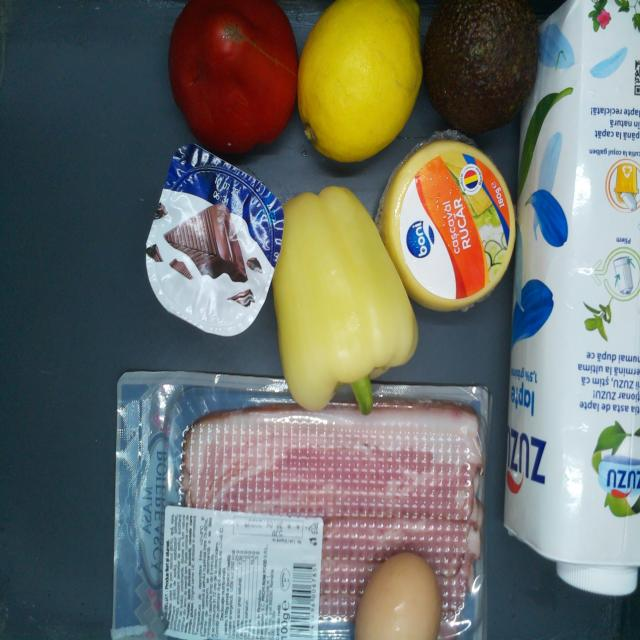avocado: (429, 1, 536, 119)
bacon: (123, 381, 474, 640)
cheese: (379, 138, 515, 314)
eggs: (355, 553, 441, 640)
lemon: (296, 3, 424, 166)
milk: (507, 5, 640, 598)
pepper: (282, 186, 414, 414)
tomatoes: (171, 0, 296, 150)
yogurt: (147, 146, 281, 338)
